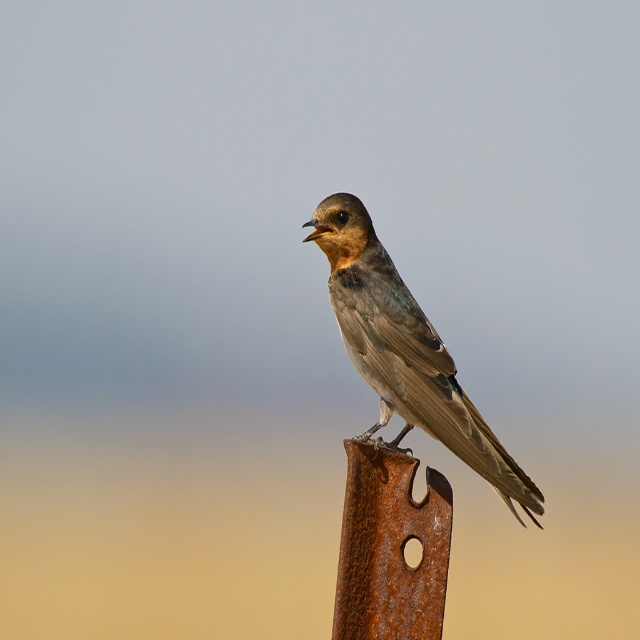Sparrow: (302, 194, 547, 528)
